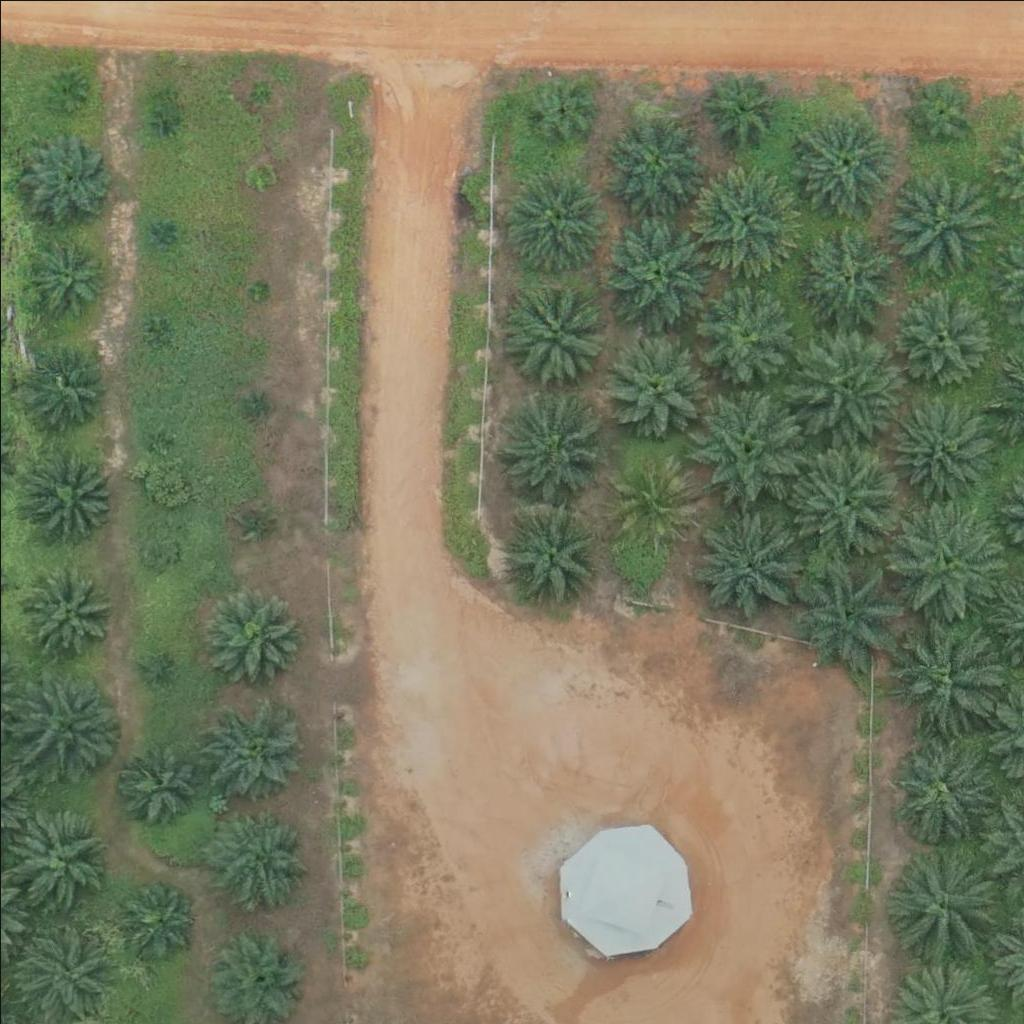Kelapa_Sawit: (10, 668, 123, 782), (686, 505, 799, 619), (688, 389, 801, 503), (788, 554, 901, 668), (887, 843, 1000, 956), (599, 217, 712, 330), (789, 448, 901, 562), (886, 615, 998, 729), (687, 156, 799, 269), (11, 120, 123, 233), (492, 391, 604, 504), (792, 324, 904, 437), (889, 502, 1001, 615), (210, 809, 310, 910), (202, 698, 302, 799), (204, 590, 304, 691), (502, 503, 602, 604), (605, 111, 705, 212), (796, 220, 896, 321), (792, 113, 892, 214), (890, 397, 990, 498), (889, 284, 989, 385), (889, 175, 989, 276), (890, 737, 990, 837), (7, 917, 107, 1017), (5, 804, 105, 904), (507, 284, 607, 384), (502, 170, 602, 270), (601, 331, 701, 431), (695, 281, 795, 381), (17, 233, 105, 322), (20, 342, 108, 430), (608, 453, 696, 541), (20, 570, 107, 658), (27, 448, 114, 536), (114, 741, 201, 829), (521, 72, 596, 148), (119, 881, 194, 957), (703, 67, 778, 142), (899, 73, 974, 148), (138, 528, 176, 566), (45, 73, 83, 111), (138, 656, 163, 681), (142, 426, 167, 451), (148, 310, 173, 335), (242, 506, 267, 531), (242, 393, 267, 418), (246, 275, 271, 300), (250, 163, 275, 188), (247, 79, 272, 104), (147, 221, 172, 246), (154, 111, 179, 136)
